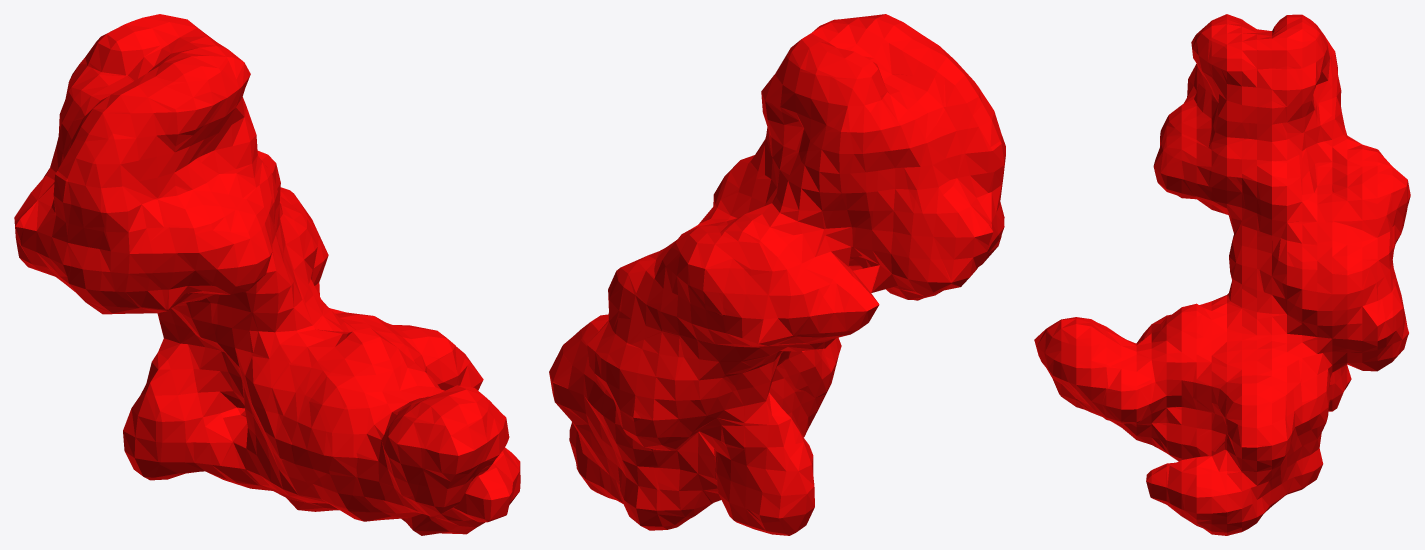
File: parE_coarse.dae
3 renders of one model, left to right at view 1: azimuth 30°, elevation 25°; view 2: azimuth 150°, elevation 25°; view 3: azimuth 270°, elevation 25°, orthographic. The views are drawn at different scales.
Parts seen in each view (by area): view 1: parE; view 2: parE; view 3: parE.
Boxes of the visible parts, x1,y1,x2,y2 form: parE: (14, 14, 520, 535); parE: (549, 14, 1005, 535); parE: (1034, 14, 1410, 535).
Size of the model in its own units: 90.27 by 102 by 84.1.
